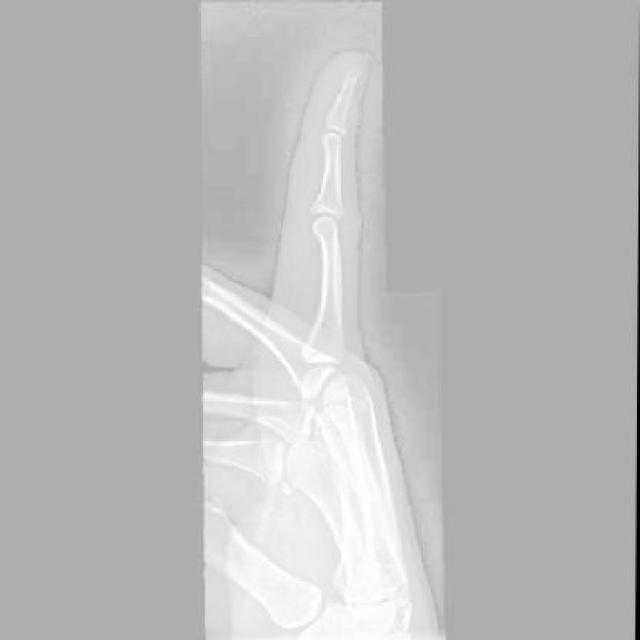Fracture: (340, 68, 354, 85)
